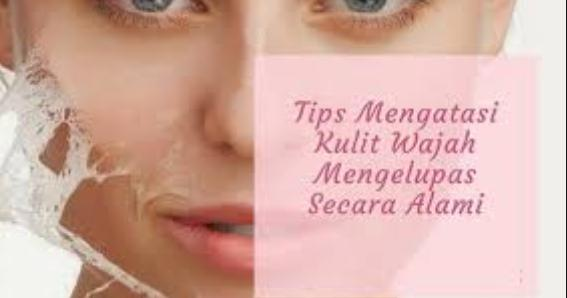Dry-Skin: (0, 0, 208, 298)
